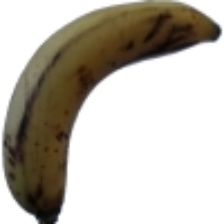banana: (58, 26, 193, 196)
